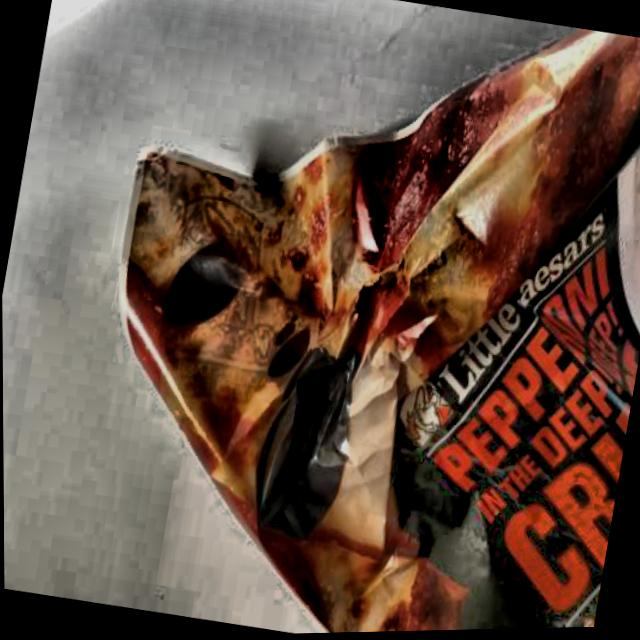Paper: (45, 0, 640, 639)
